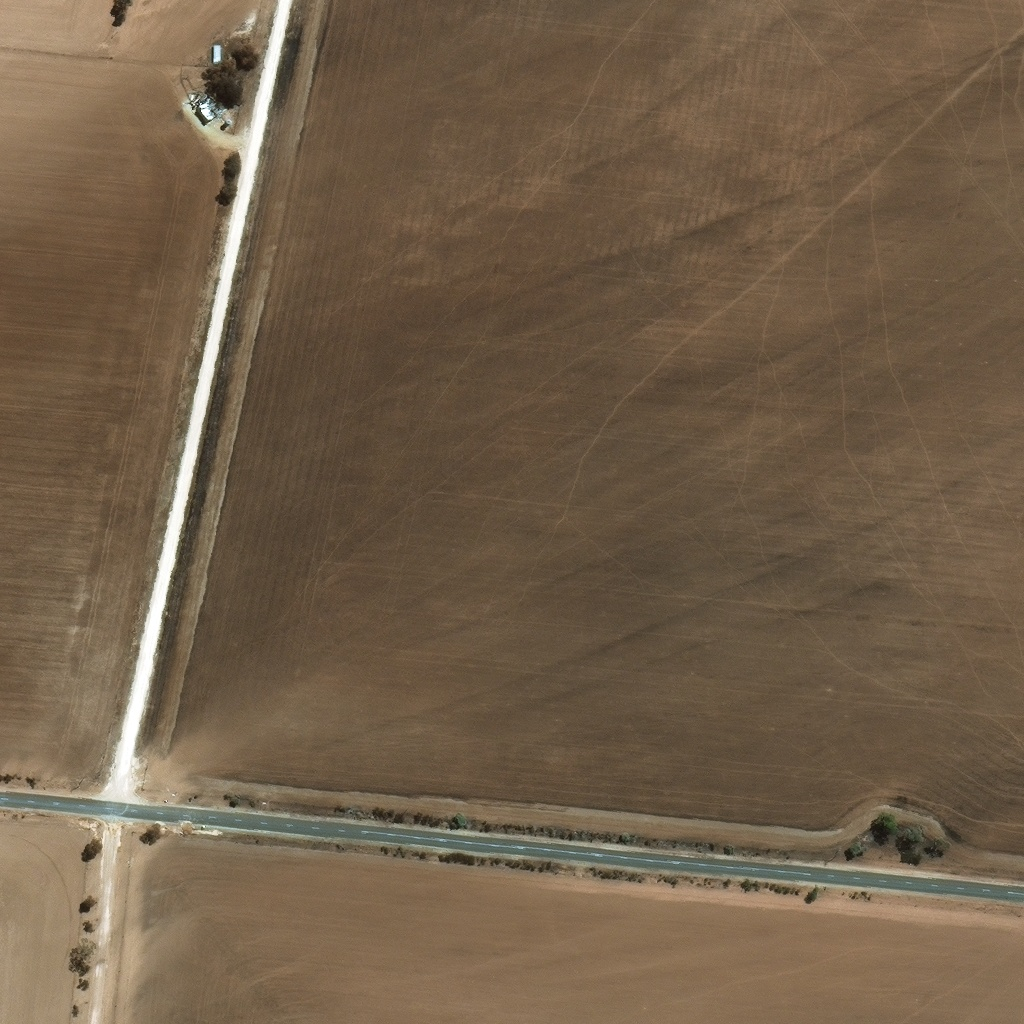0 no-damage: (214, 42, 223, 63)
3 destroyed: (193, 92, 225, 121)
